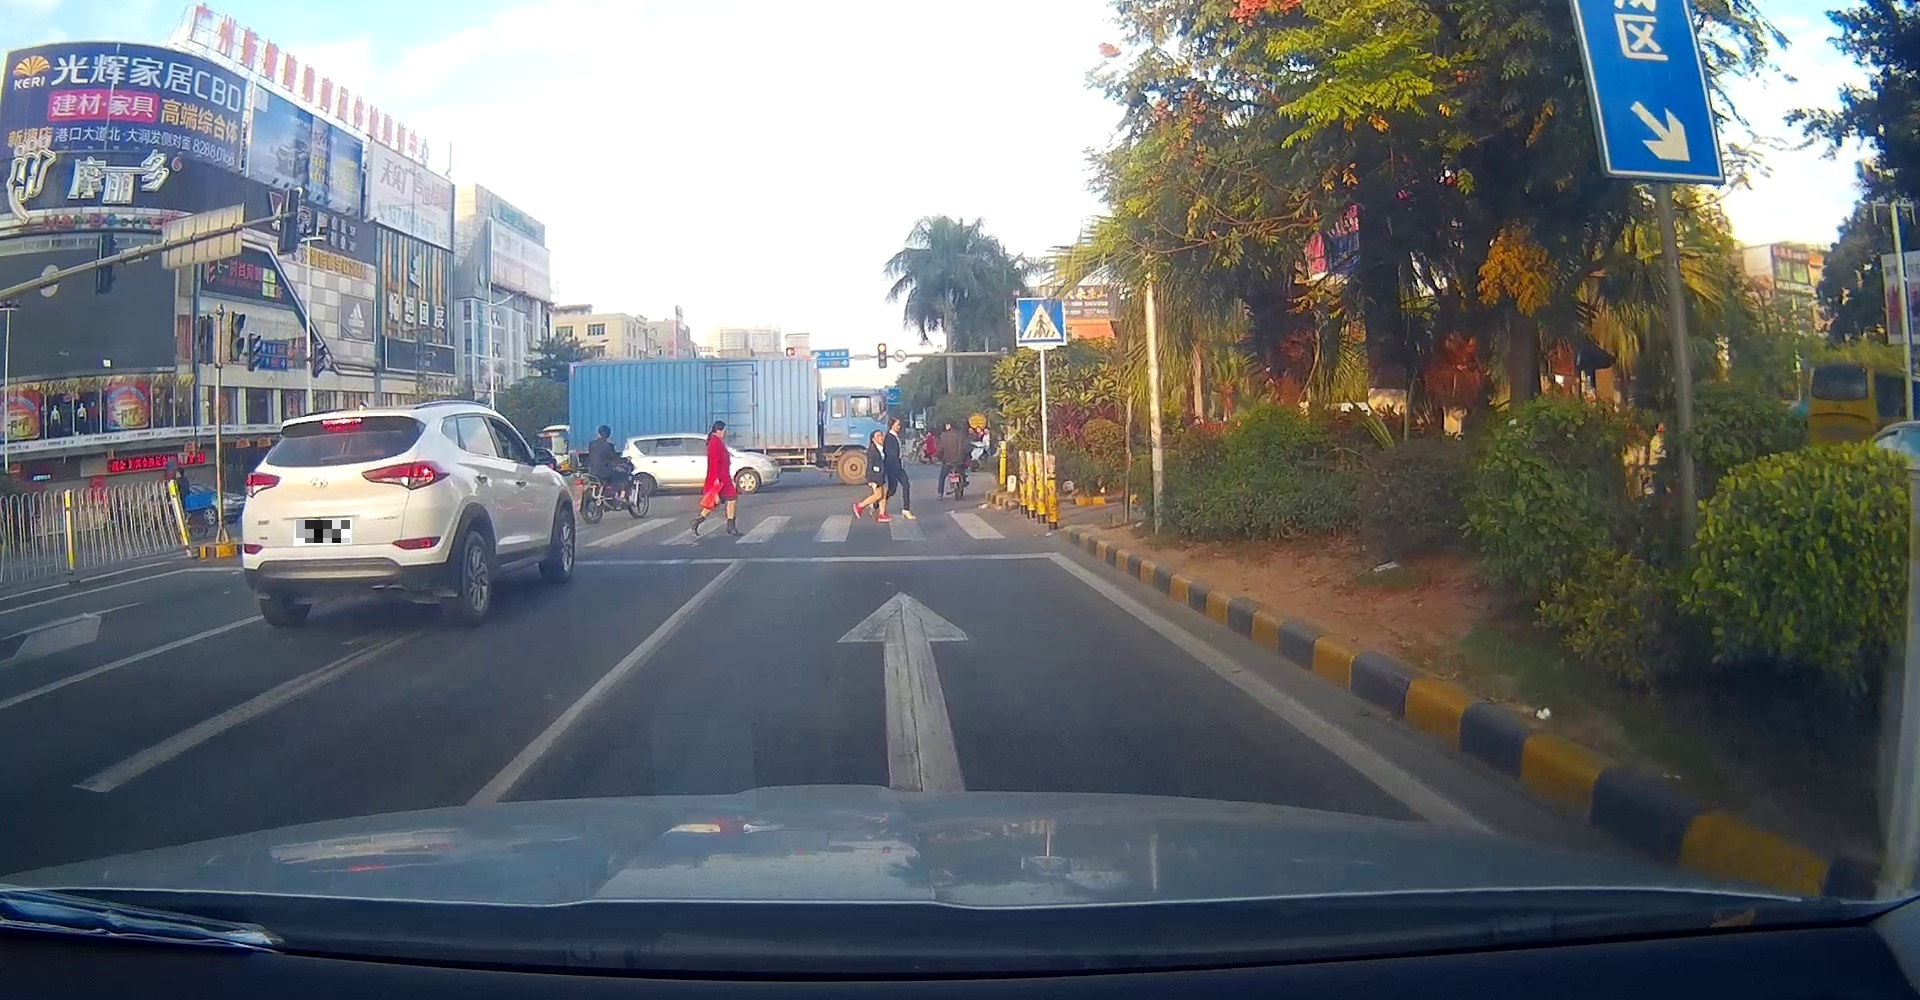L_light: (243, 471, 281, 497)
R_light: (361, 459, 450, 490)
T_light: (321, 418, 362, 425)
day-brake: (243, 406, 450, 626)
plate_1: (296, 520, 350, 543)
